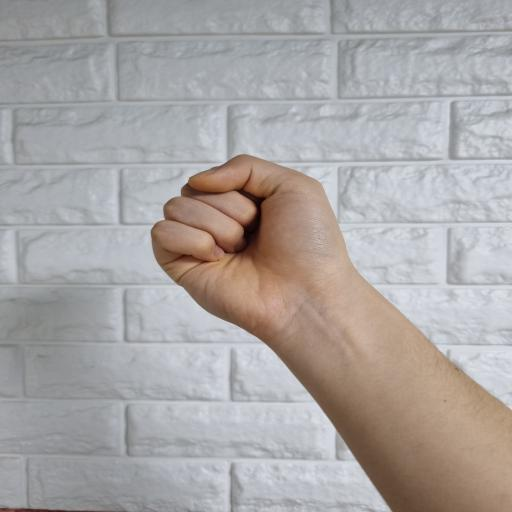Rock: (150, 156, 354, 334)
